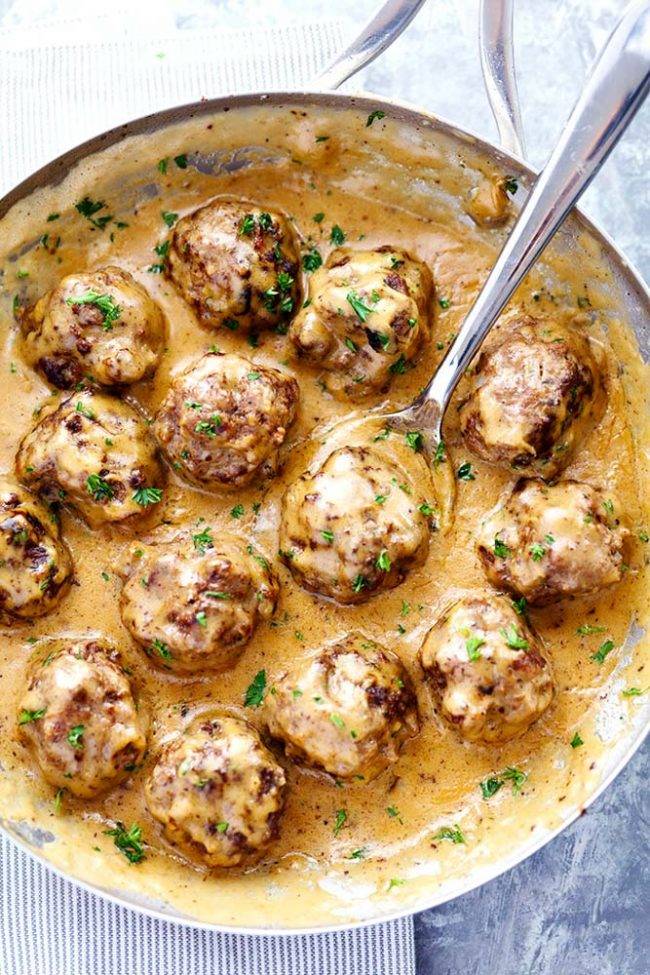meatballs: (8, 209, 628, 873)
